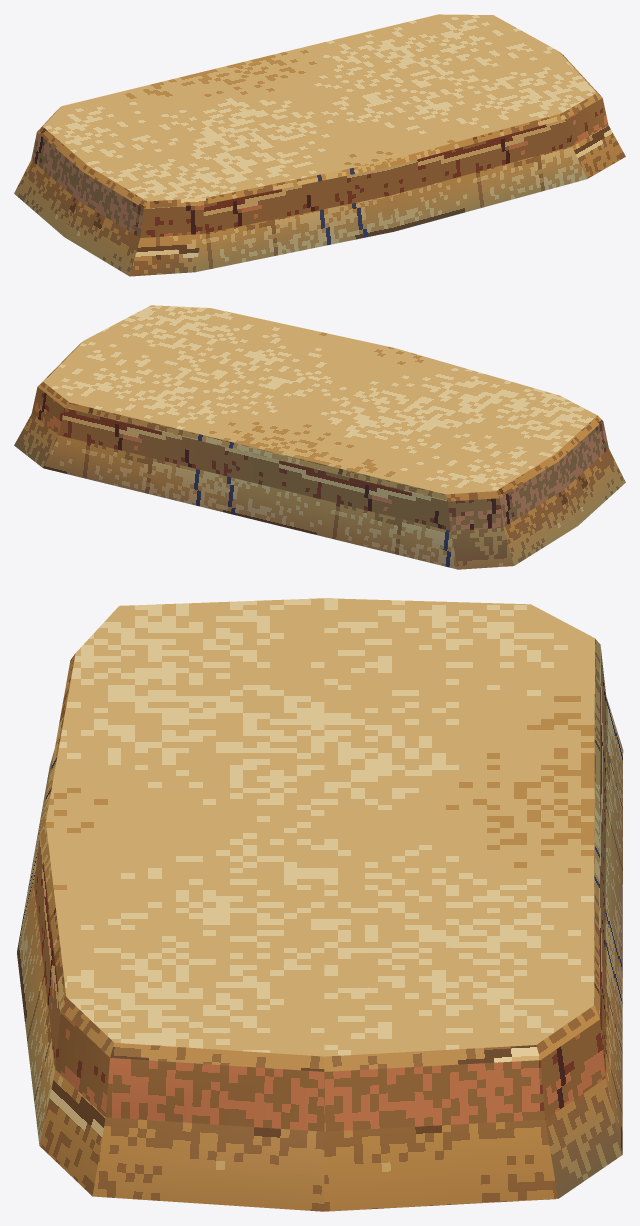
Rendered from wland.ledge__low.glb.
3 renders of one model, top to bottom at view 1: azimuth 30°, elevation 25°; view 2: azimuth 150°, elevation 25°; view 3: azimuth 270°, elevation 25°, orthographic. The views are drawn at different scales.
Parts seen in each view (by area): view 1: kit_ledge; view 2: kit_ledge; view 3: kit_ledge.
Boxes of the visible parts, x1,y1,x2,y2 form: kit_ledge: (14,14,625,276); kit_ledge: (14,305,625,569); kit_ledge: (17,598,623,1211).
Size of the model in its own units: 8.3 by 1 by 4.2.
4 materials, 4 textured.
